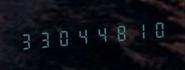eight: (112, 18, 130, 46)
four: (93, 19, 111, 48), (74, 21, 92, 49)
one: (131, 16, 149, 44)
three: (36, 24, 54, 53), (17, 26, 35, 54)
zero: (150, 14, 168, 43), (55, 23, 73, 51)
